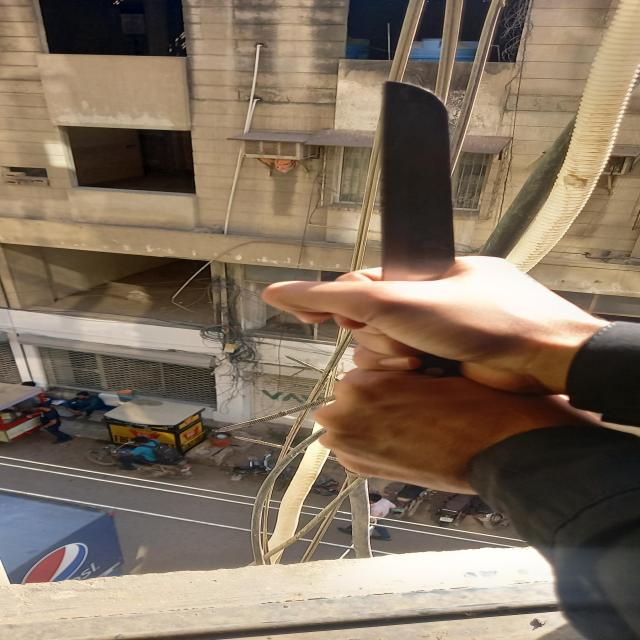weapon: (383, 81, 459, 379)
